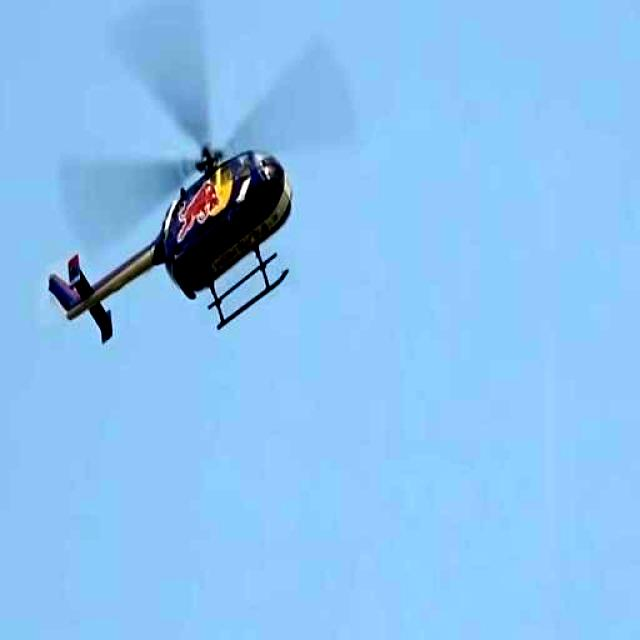drone: (39, 101, 308, 381)
